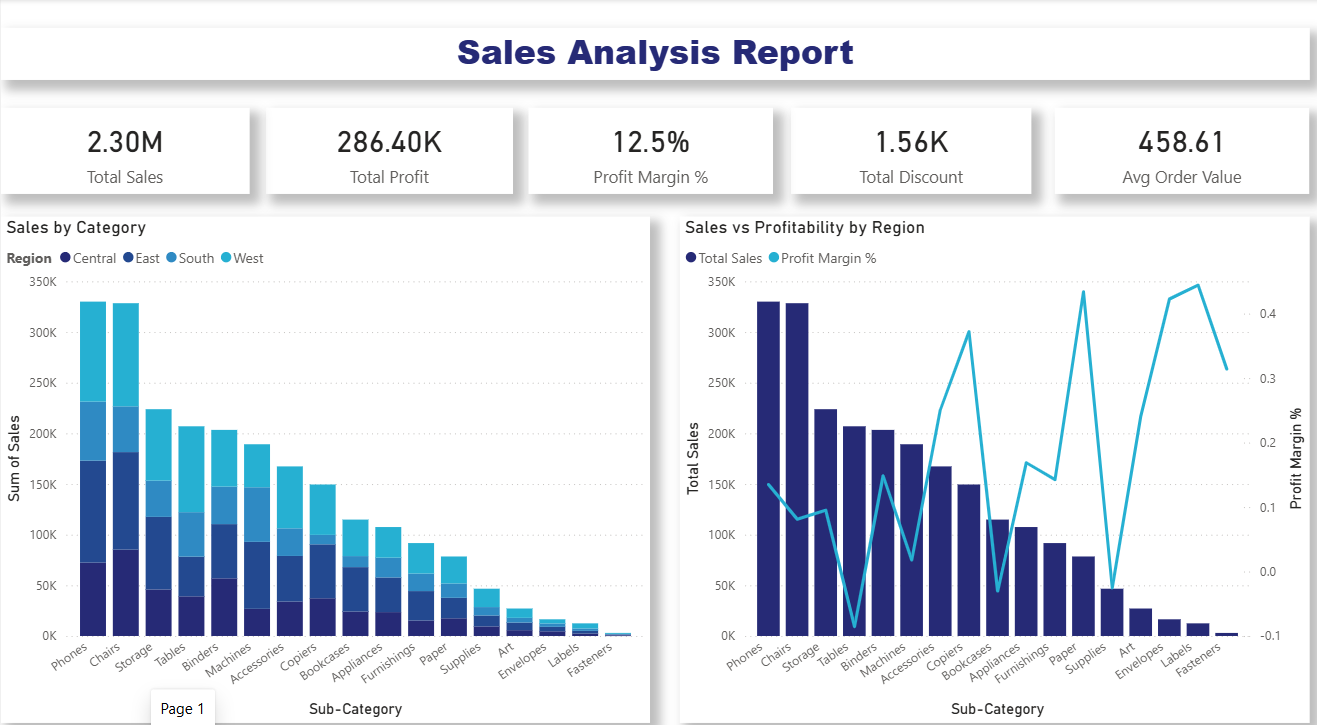

The page's visual inventory and layout, read from the dashboard file:
{"tool":"powerbi","page":{"name":"Page 1","canvas":[1280,720],"ordinal":0},"visuals":[{"type":"columnChart","title":"Sales by Category","fields":{"Category":["Orders.Sub-Category"],"Y":["Sum(Orders.Sales)"],"Series":["Orders.Region"]},"box":[0,209.9,626.1,488.6],"z":0},{"type":"card","title":"Total Discount","fields":{"Values":["Sum(Orders.Discount)"]},"box":[763,105.2,232.3,83.2],"z":1000},{"type":"card","title":"Total Profit","fields":{"Values":["Sum(Orders.Profit)"]},"box":[255.6,105.2,238.5,83.2],"z":2000},{"type":"card","title":"Total Sales","fields":{"Values":["Sum(Orders.Sales)"]},"box":[0,105.2,239.7,83.2],"z":3000},{"type":"card","fields":{"Values":["Orders.Profit Margin %"]},"box":[508.7,105.2,236,83.2],"z":4000},{"type":"lineClusteredColumnComboChart","title":"Sales vs Profitability by Region","fields":{"Category":["Orders.Sub-Category"],"Y2":["Orders.Profit Margin %"],"Y":["Sum(Orders.Sales)"]},"box":[655.1,209.9,608,488.6],"z":5000},{"type":"card","fields":{"Values":["Orders.Avg Order Value"]},"box":[1017.4,105.2,245.8,83.2],"z":6000},{"type":"textbox","title":"Sales Analysis Report","box":[0,28.1,1263.2,50.1],"z":6001}]}

Visuals, with their boxes in screenshot pixels (x1, y1, x2, y2), scaled from the page's 1280x720 canvas onto the 1317x725 screenshot:
"Sales by Category" columnChart: (0,211,644,703)
"Total Discount" card: (785,106,1024,190)
"Total Profit" card: (263,106,508,190)
"Total Sales" card: (0,106,247,190)
card - Orders.Profit Margin %: (523,106,766,190)
"Sales vs Profitability by Region" lineClusteredColumnComboChart: (674,211,1300,703)
card - Orders.Avg Order Value: (1047,106,1300,190)
"Sales Analysis Report" textbox: (0,28,1300,79)
